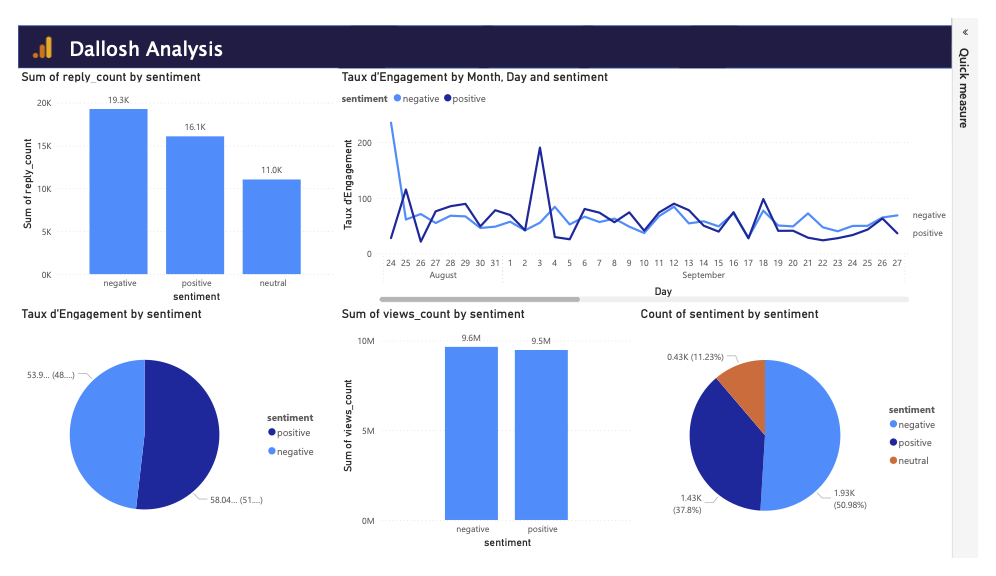

This screenshot's page, from the dashboard's own definition file:
{"tool":"powerbi","page":{"name":"Global Analysis","canvas":[1280,720],"ordinal":0},"visuals":[{"type":"shape","box":[0,0,1600,59.3],"z":0},{"type":"textbox","box":[66.4,7.2,260.3,52.1],"z":1000},{"type":"image","box":[0,0,66.2,58.9],"z":2000},{"type":"shape","box":[631.1,0,19.9,58.9],"z":5000},{"type":"shape","box":[769,0,19.9,58.9],"z":7000},{"type":"shape","box":[438.9,0,80.7,58.9],"z":8000},{"type":"shape","box":[905.9,0,80.7,58.9],"z":9000},{"type":"pieChart","fields":{"Category":["Tweets.sentiment"],"Y":["Tweets.Taux d'Engagement"]},"box":[0,383.8,427.7,335.7],"z":10000},{"type":"pieChart","fields":{"Category":["Tweets.sentiment"],"Y":["CountNonNull(Tweets.sentiment)"]},"box":[849.2,383.8,430.8,336.7],"z":11000},{"type":"clusteredColumnChart","fields":{"Category":["Tweets.sentiment"],"Y":["Sum(Tweets.reply_count)"]},"box":[0,58.6,439.2,325.2],"z":12000},{"type":"clusteredColumnChart","fields":{"Category":["Tweets.sentiment"],"Y":["Sum(Tweets.views_count)"]},"box":[439.2,384.8,409.9,335.7],"z":13000},{"type":"lineChart","fields":{"Category":["Tweets.Date.Variation.Date Hierarchy.Month","Tweets.Date.Variation.Date Hierarchy.Day"],"Y":["Tweets.Taux d'Engagement"],"Series":["Tweets.sentiment"]},"box":[439.2,59.6,840.8,325.2],"z":14000}]}

Visuals, with their boxes on the page's 1280x720 design canvas (x1, y1, x2, y2). These are canvas units, not pixel positions in the 996x576 screenshot, which may show the page scaled, cropped or inside an application window:
shape: 0/0/1600/59
textbox: 66/7/327/59
image: 0/0/66/59
shape: 631/0/651/59
shape: 769/0/789/59
shape: 439/0/520/59
shape: 906/0/987/59
pieChart - Tweets.sentiment x Tweets.Taux d'Engagement: 0/384/428/720
pieChart - Tweets.sentiment x CountNonNull(Tweets.sentiment): 849/384/1280/720
clusteredColumnChart - Tweets.sentiment x Sum(Tweets.reply_count): 0/59/439/384
clusteredColumnChart - Tweets.sentiment x Sum(Tweets.views_count): 439/385/849/720
lineChart - Tweets.Date.Variation.Date Hierarchy.Month x Tweets.Date.Variation.Date Hierarchy.Day: 439/60/1280/385
